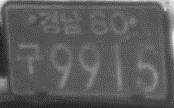0: (109, 10, 129, 36)
1: (109, 43, 127, 94)
5: (134, 43, 161, 93)
8: (88, 9, 110, 36)
9: (49, 43, 75, 90), (77, 45, 103, 91)
경남_O: (38, 10, 83, 36)
구: (15, 42, 46, 77)
